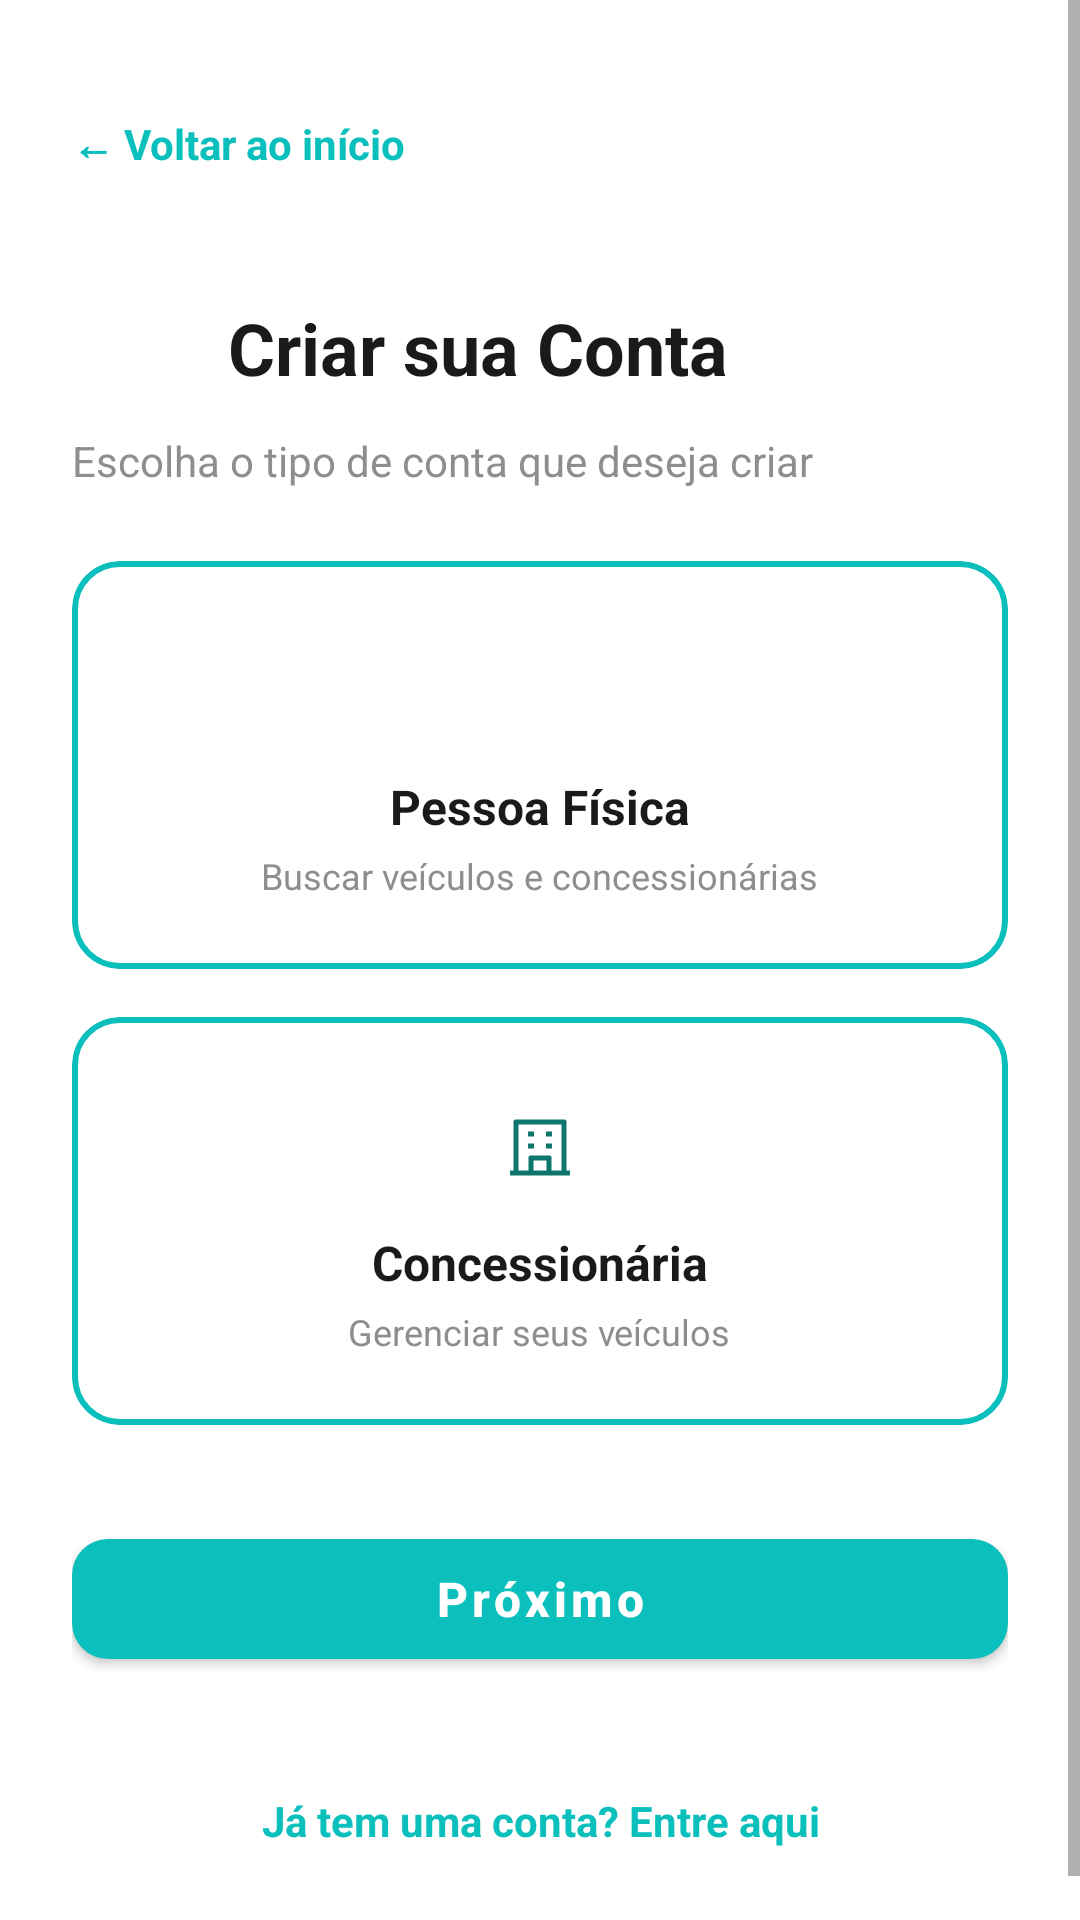

Screen size 1080x1920. Icon name, then its box in pixels as (x1, y1, x2, y2):
user dealership: (510, 1119, 570, 1176)
